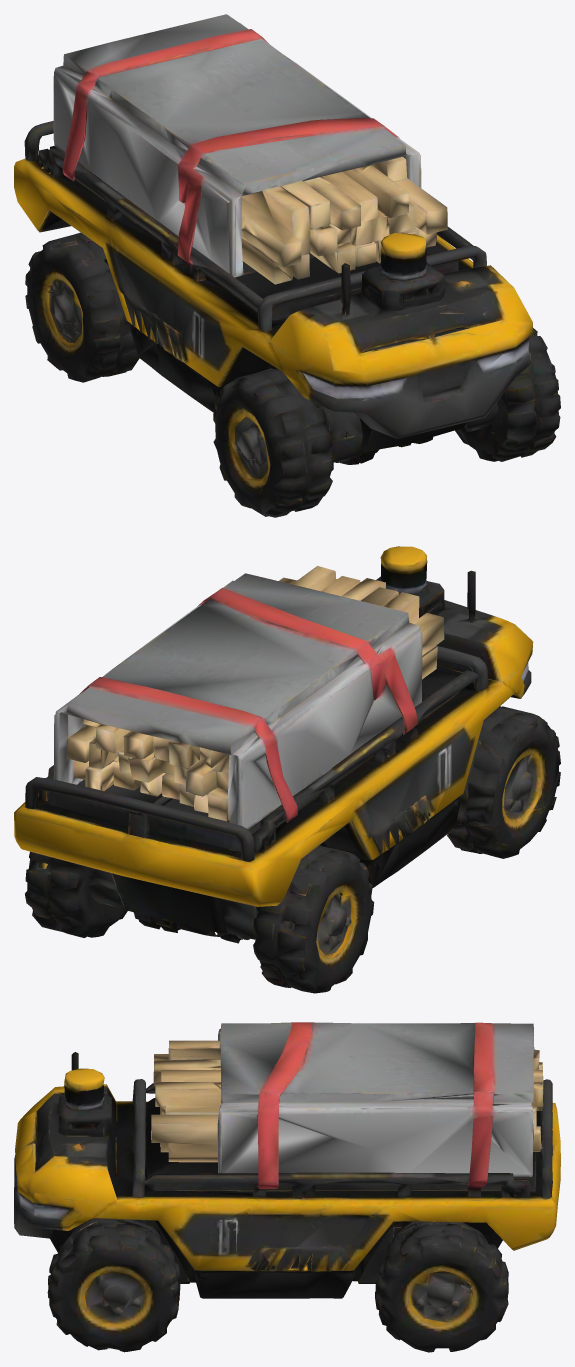
File: rover-standard.glb
3 renders of one model, top to bottom at view 1: azimuth 30°, elevation 25°; view 2: azimuth 150°, elevation 25°; view 3: azimuth 270°, elevation 25°, orthographic. The views are drawn at different scales.
Parts seen in each view (by area): view 1: world; view 2: world; view 3: world.
Part boxes in pixels (<box>): world: <box>14,14,560,517</box>; world: <box>14,546,560,993</box>; world: <box>14,1022,560,1352</box>.
Size of the model in its own units: 0.5242 by 0.4861 by 1.
1 material, 1 textured.
